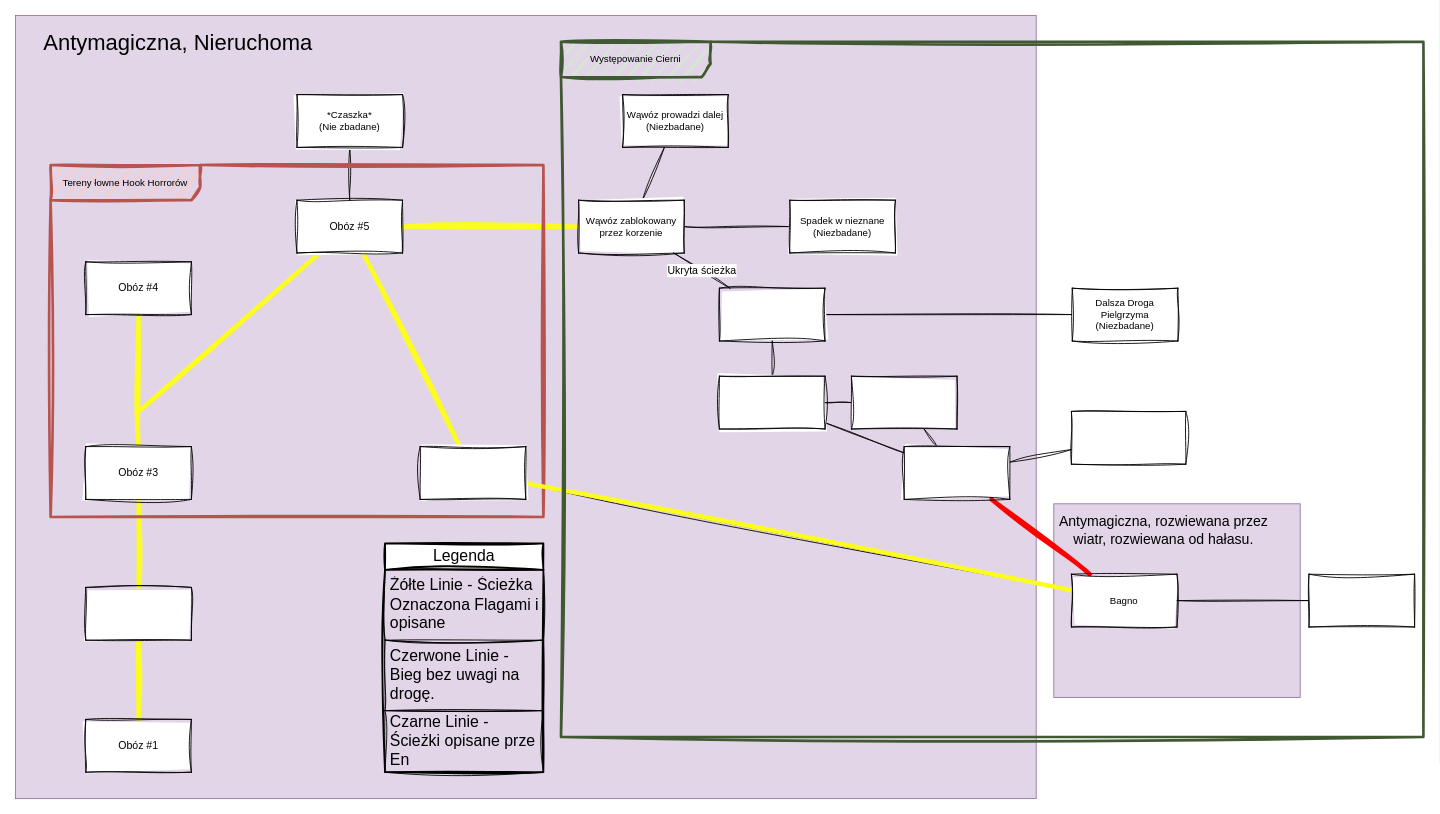
Image size: 1440x814. Some labels were removed from this diagram. Each missing label, with the centre of its shape:
*Czaszka* (Niezbadane): the point at 1361,600
Niestabilny most nad przepaścią: the point at 772,402
Obóz #2: the point at 138,613
Przejścia z kładką: the point at 772,314
Rozpadlina pod mostem: the point at 904,402
Ukryta jaskinia: the point at 956,472
Zablokowwany tunel, Przeszedł nim pielgrzym (Niezbadane): the point at 1128,437
Ścieżka na bagno: the point at 472,472
